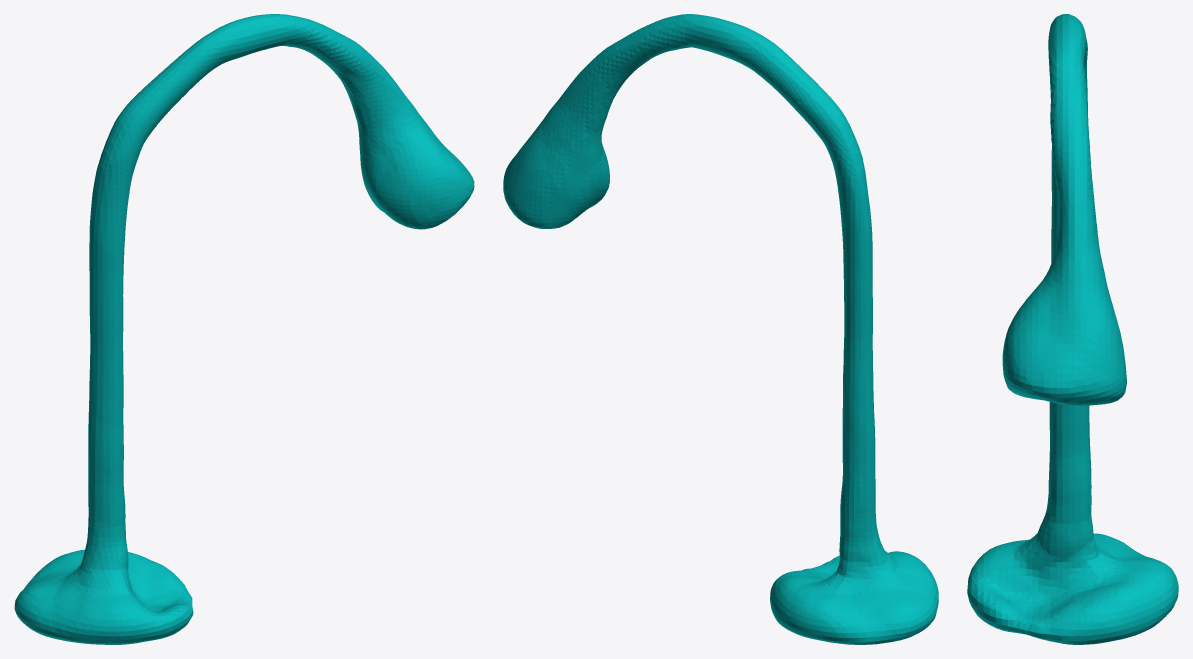
3 views of the same model, side by side, from view 1: azimuth 30°, elevation 25°; view 2: azimuth 150°, elevation 25°; view 3: azimuth 270°, elevation 25° (orthographic). The views are drawn at different scales.
Size of the model in its own units: 0.8332 by 1.04 by 0.3019.
